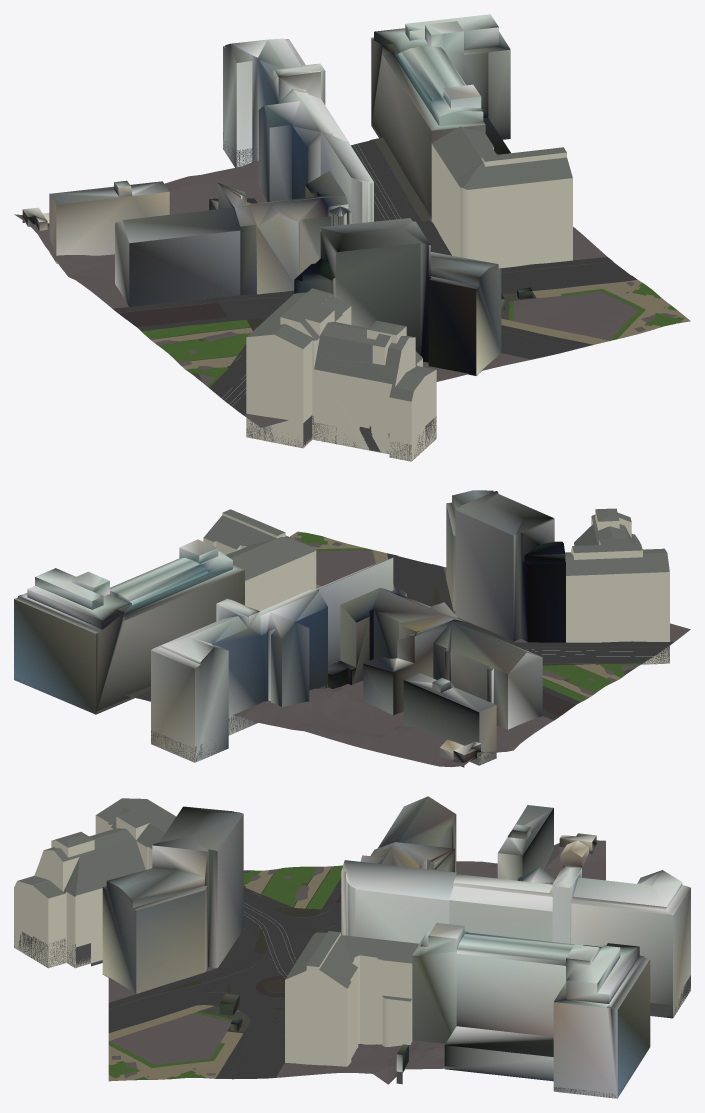
3 renders of one model, top to bottom at view 1: azimuth 30°, elevation 25°; view 2: azimuth 150°, elevation 25°; view 3: azimuth 270°, elevation 25°, orthographic. The views are drawn at different scales.
Parts seen in each view (by area): view 1: c_m10_p02; view 2: c_m10_p02; view 3: c_m10_p02.
Boxes of the visible parts, left/top/right/bottom form: c_m10_p02: left=14, top=14, right=690, bottom=461; c_m10_p02: left=14, top=490, right=690, bottom=767; c_m10_p02: left=14, top=796, right=690, bottom=1098.
Size of the model in its own units: 145 by 44.2 by 174.
